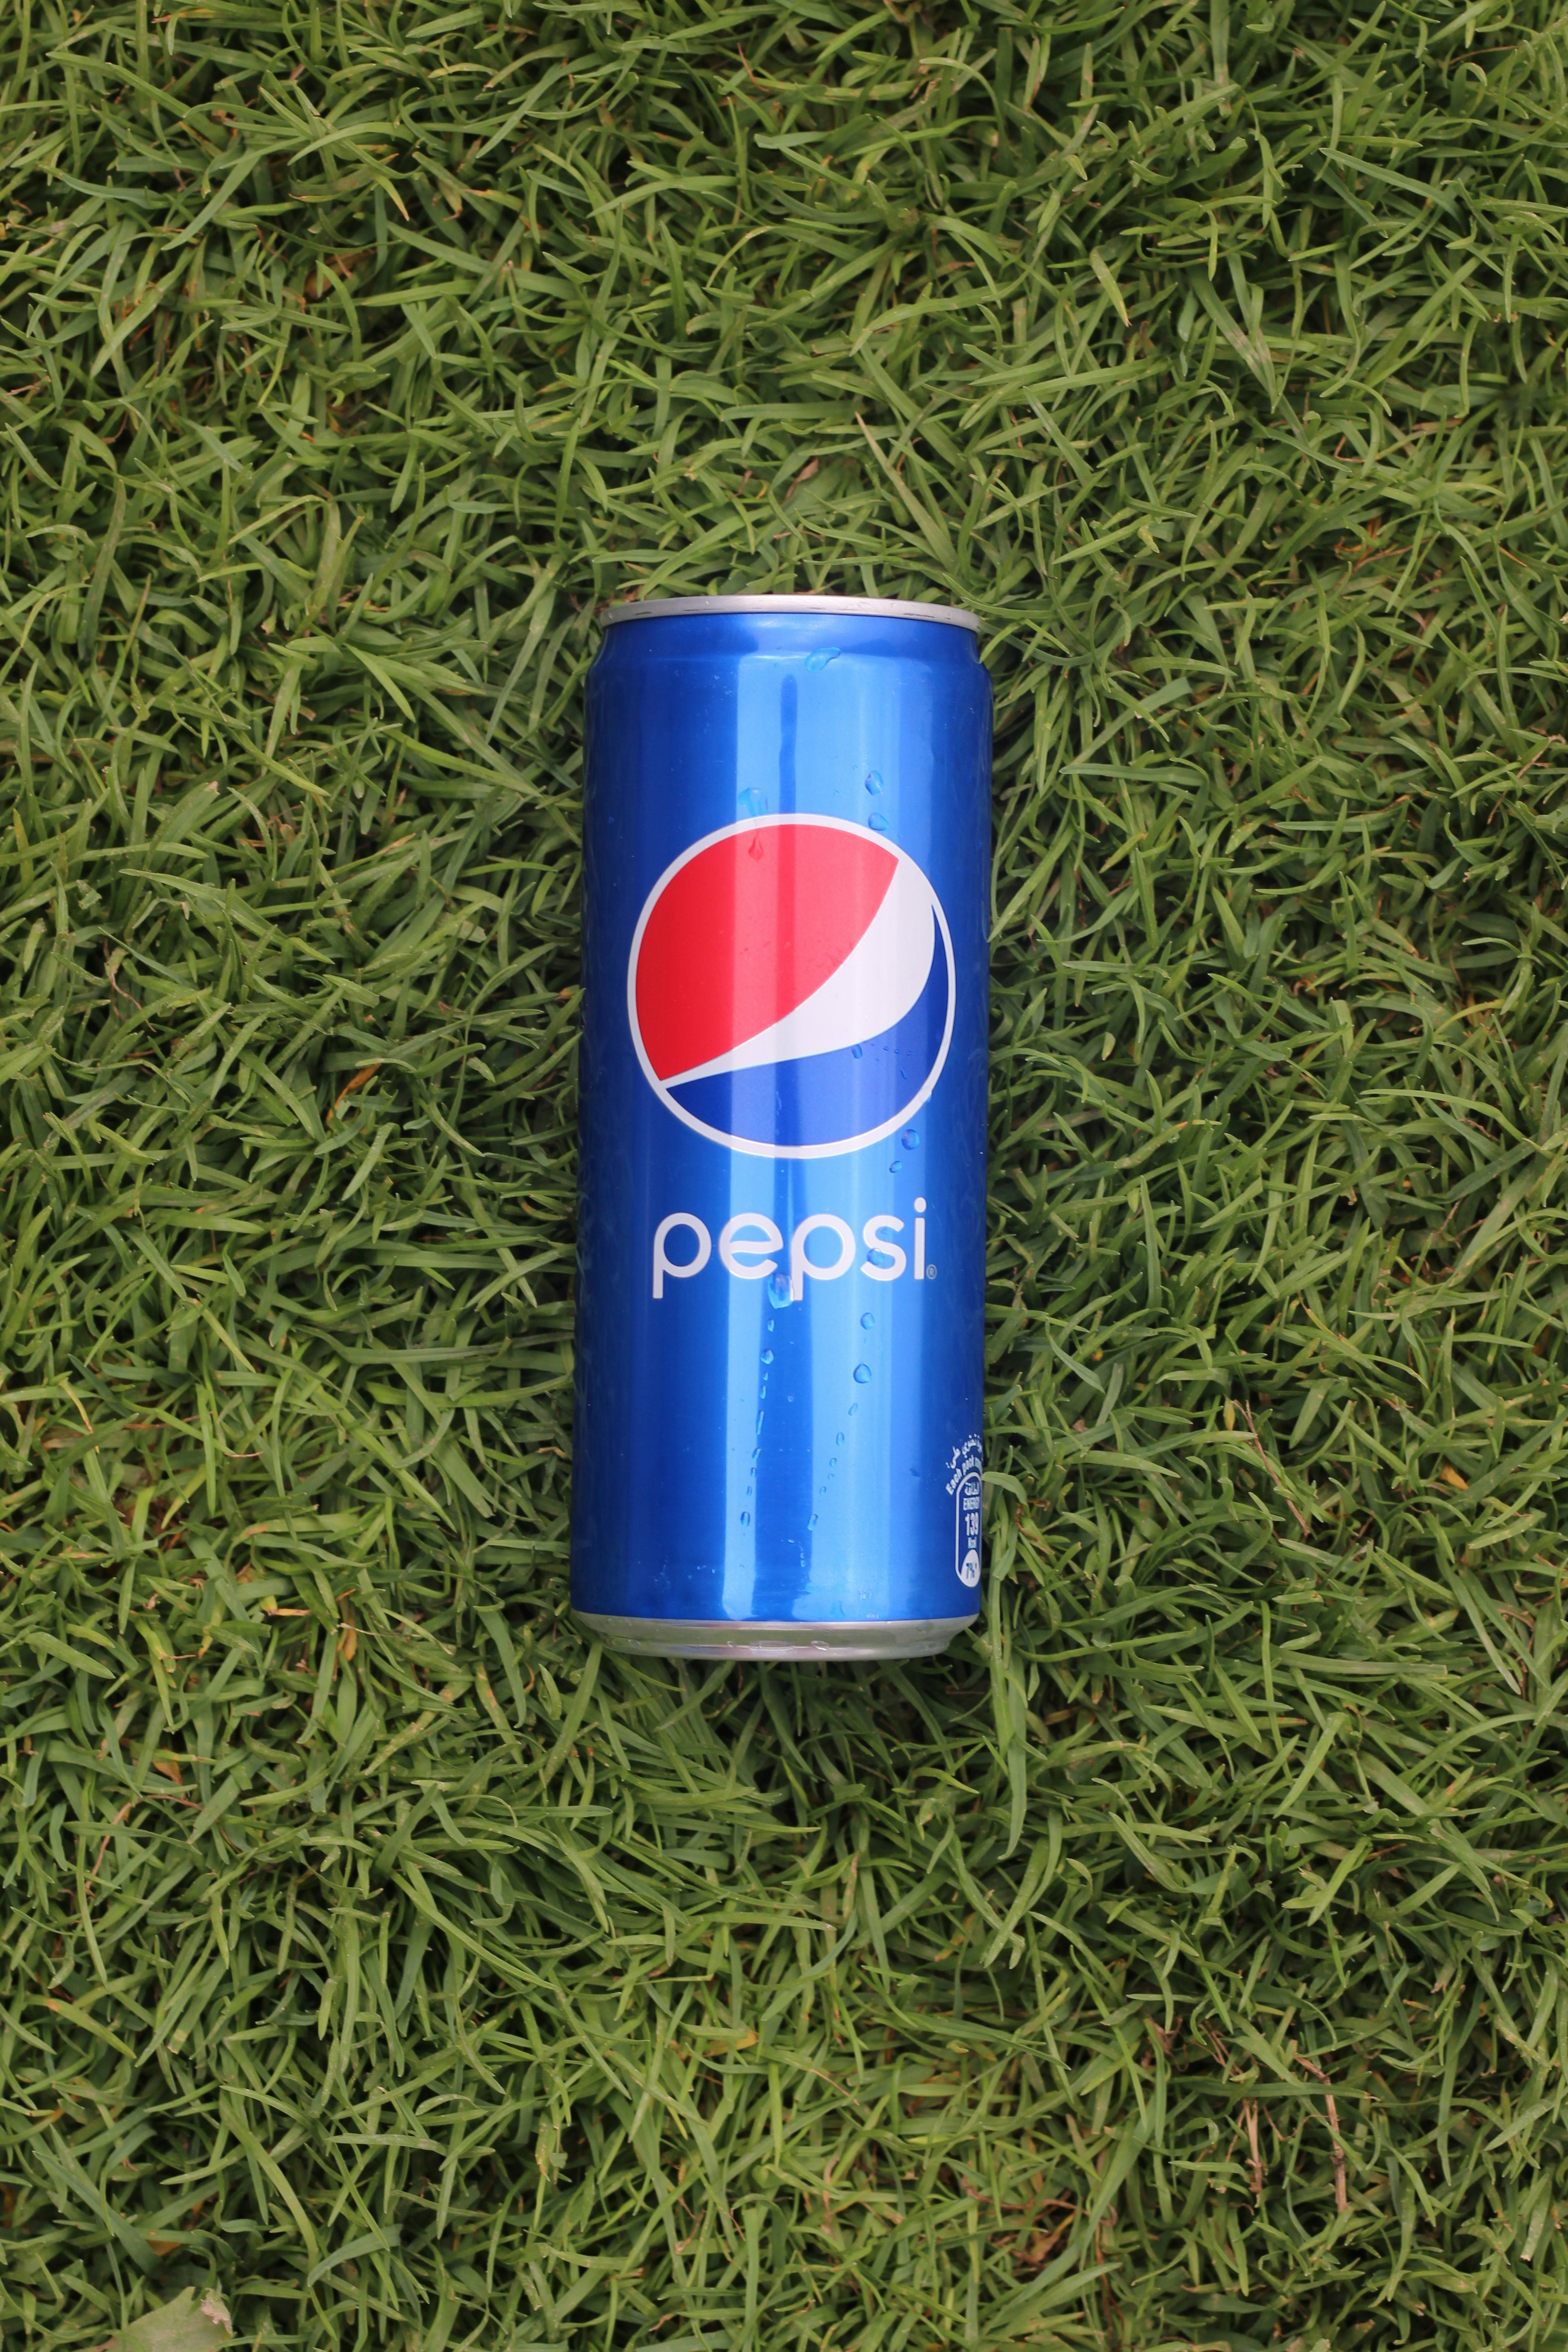PEPSI: (579, 609, 979, 1638)
